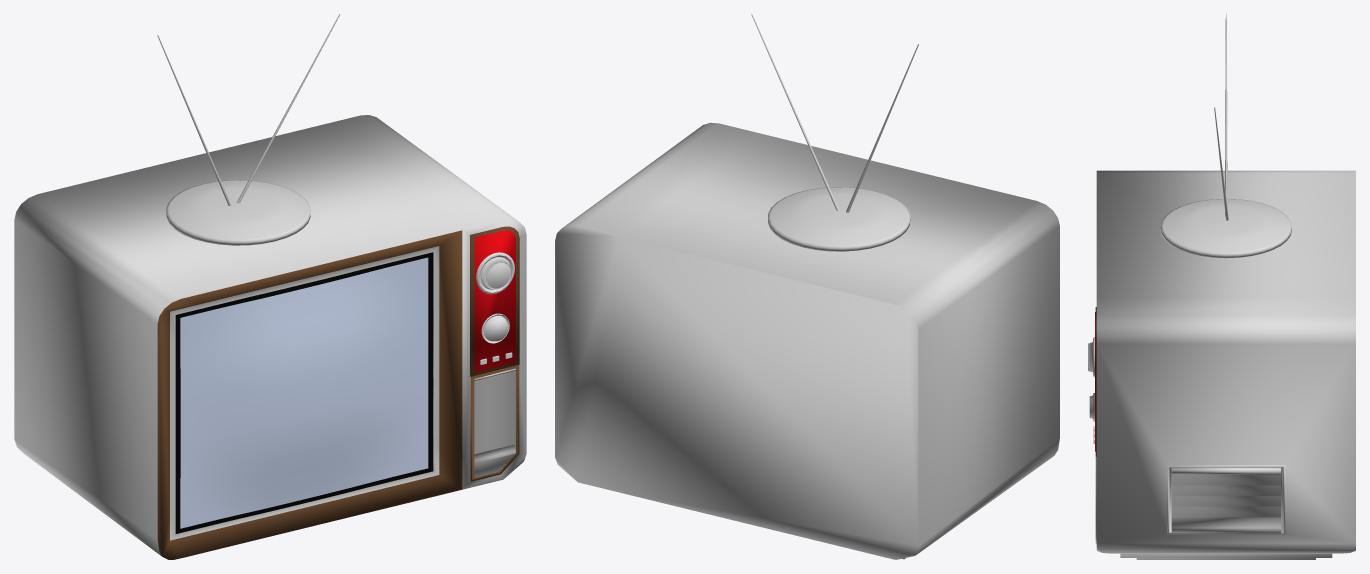
The model's file is retro_tv1.glb.
3 renders of one model, left to right at view 1: azimuth 30°, elevation 25°; view 2: azimuth 150°, elevation 25°; view 3: azimuth 270°, elevation 25°, orthographic. The views are drawn at different scales.
Parts seen in each view (by area): view 1: Cube, Cube.005, Cylinder.002, Cylinder, Cylinder.001; view 2: Cube, Cylinder.002; view 3: Cube, Cube.004, Cylinder.002, Cylinder.003.
Part boxes in pixels (bbox=[...]): Cube: bbox=[14, 115, 526, 559]; Cube.005: bbox=[175, 252, 433, 533]; Cylinder.002: bbox=[166, 180, 310, 245]; Cylinder: bbox=[476, 252, 514, 294]; Cylinder.001: bbox=[481, 313, 509, 343]; Cube: bbox=[555, 122, 1059, 559]; Cylinder.002: bbox=[768, 187, 910, 251]; Cube: bbox=[1095, 170, 1355, 559]; Cube.004: bbox=[1171, 467, 1280, 533]; Cylinder.002: bbox=[1160, 199, 1291, 258]; Cylinder.003: bbox=[1225, 14, 1227, 216].
Bounding box in the file's own units: 4.05 × 5.01 × 2.79.
